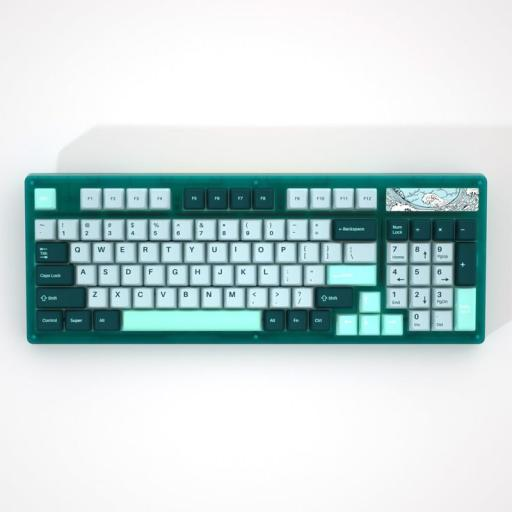KEYBOARD-2: (19, 168, 488, 350)
